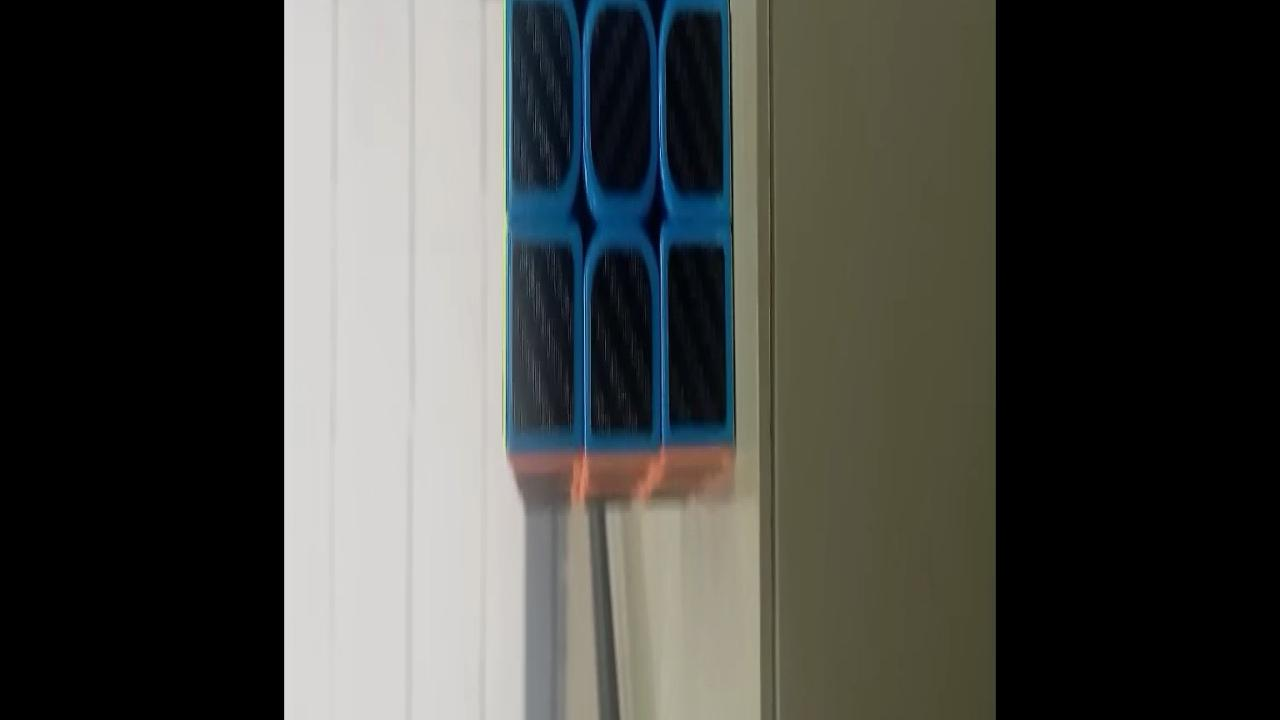Cube: (501, 0, 736, 515)
